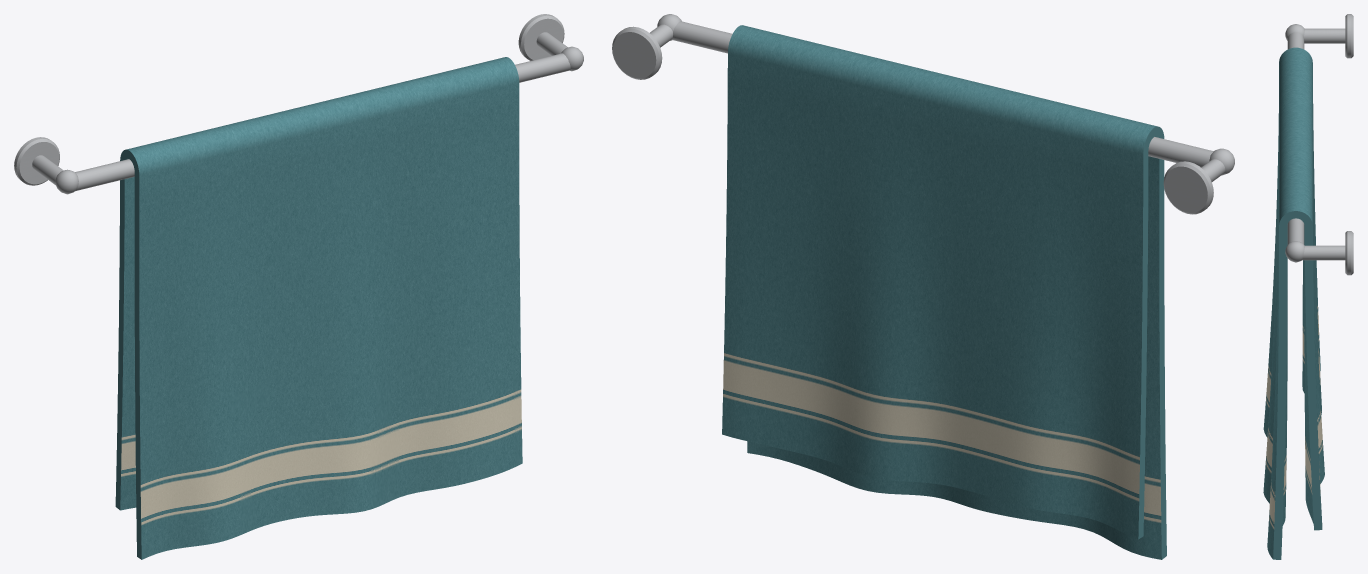
Rendered from towel-rail-with-towel.glb.
3 views of the same model, side by side, from view 1: azimuth 30°, elevation 25°; view 2: azimuth 150°, elevation 25°; view 3: azimuth 270°, elevation 25° (orthographic). The views are drawn at different scales.
Visible parts, largest first — view 1: Bath towel, Towel rail; view 2: Bath towel, Towel rail; view 3: Bath towel, Towel rail.
Part boxes in pixels (bbox=[...]): Bath towel: bbox=[115, 57, 522, 559]; Towel rail: bbox=[14, 14, 583, 194]; Bath towel: bbox=[722, 25, 1166, 559]; Towel rail: bbox=[612, 14, 1234, 214]; Bath towel: bbox=[1263, 47, 1324, 559]; Towel rail: bbox=[1285, 14, 1353, 275].
Bounding box in the file's own units: 0.678 × 0.4811 × 0.1095.
Materials: 2 (2 with a texture image).
